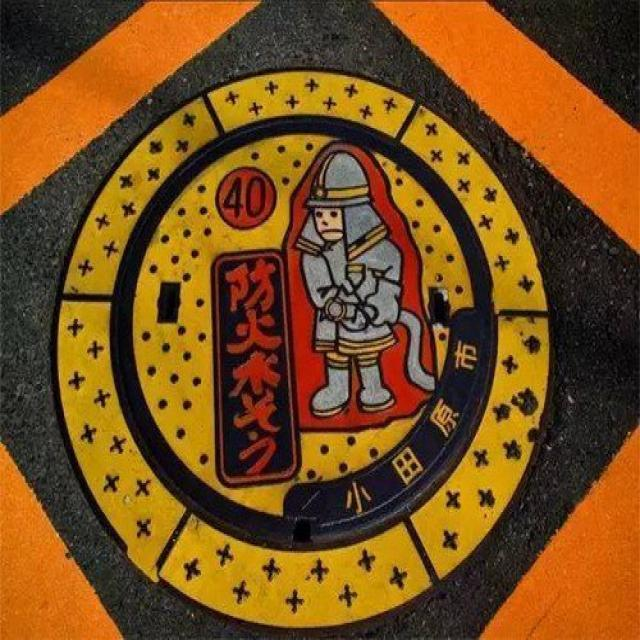manhole: (52, 69, 552, 632)
